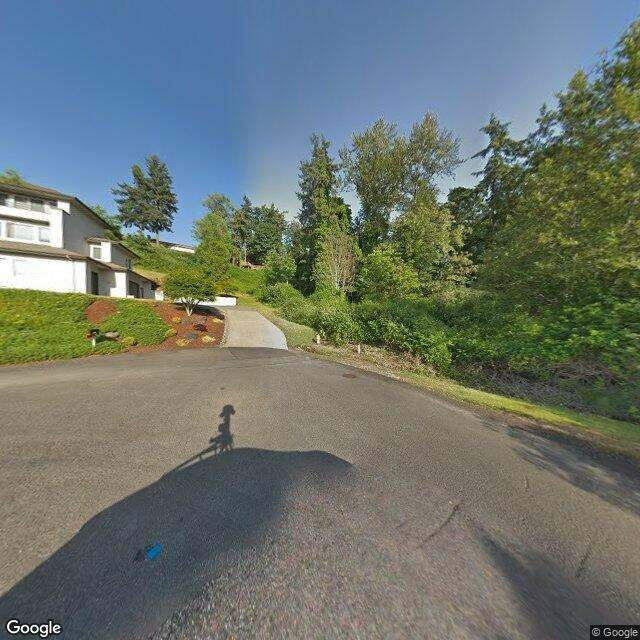hydrant: (311, 334, 323, 348)
